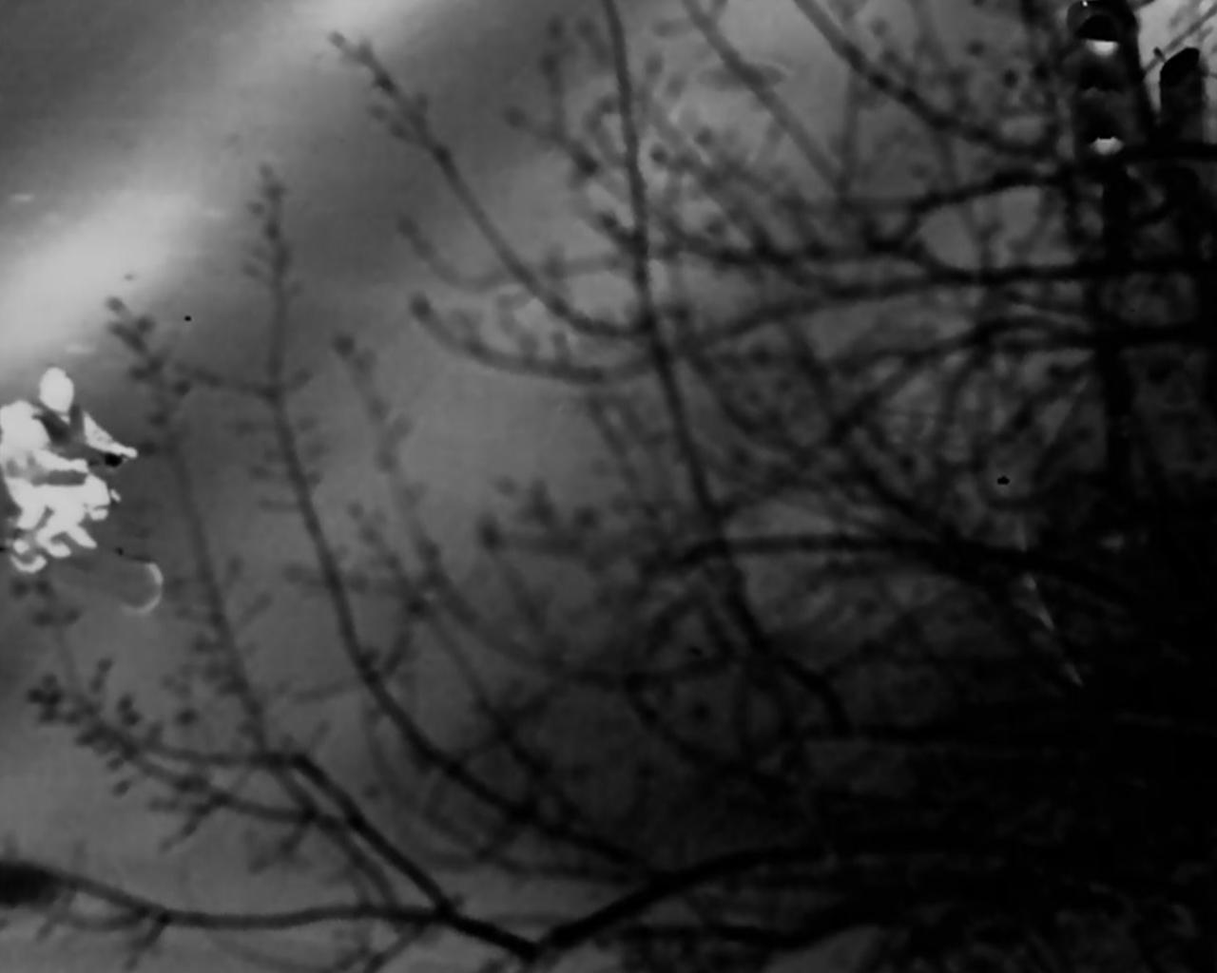person: (29, 364, 130, 565)
